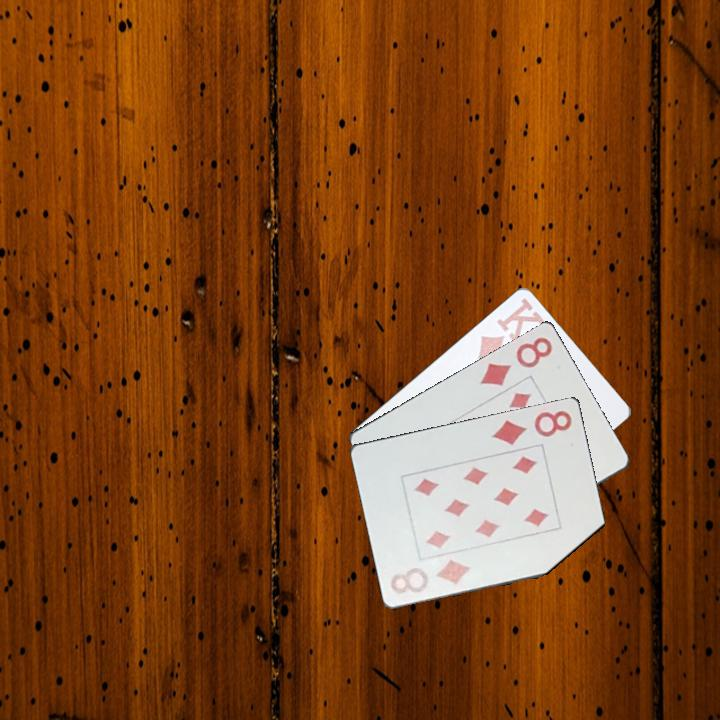8d: (476, 333, 556, 388), (488, 406, 575, 448), (387, 556, 474, 597)
Kd: (473, 293, 546, 362)
